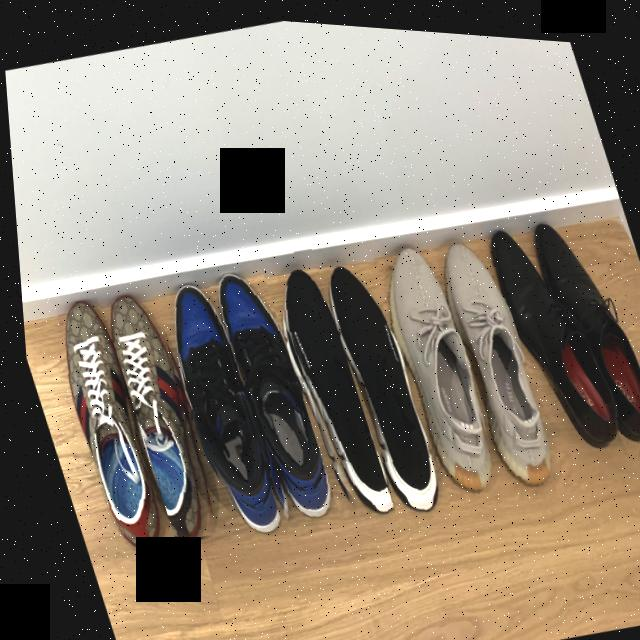shoe: (255, 237, 394, 538), (192, 259, 334, 530), (313, 243, 449, 524), (419, 223, 559, 492), (366, 229, 501, 501), (148, 272, 278, 542), (37, 293, 168, 559), (92, 279, 222, 542)
